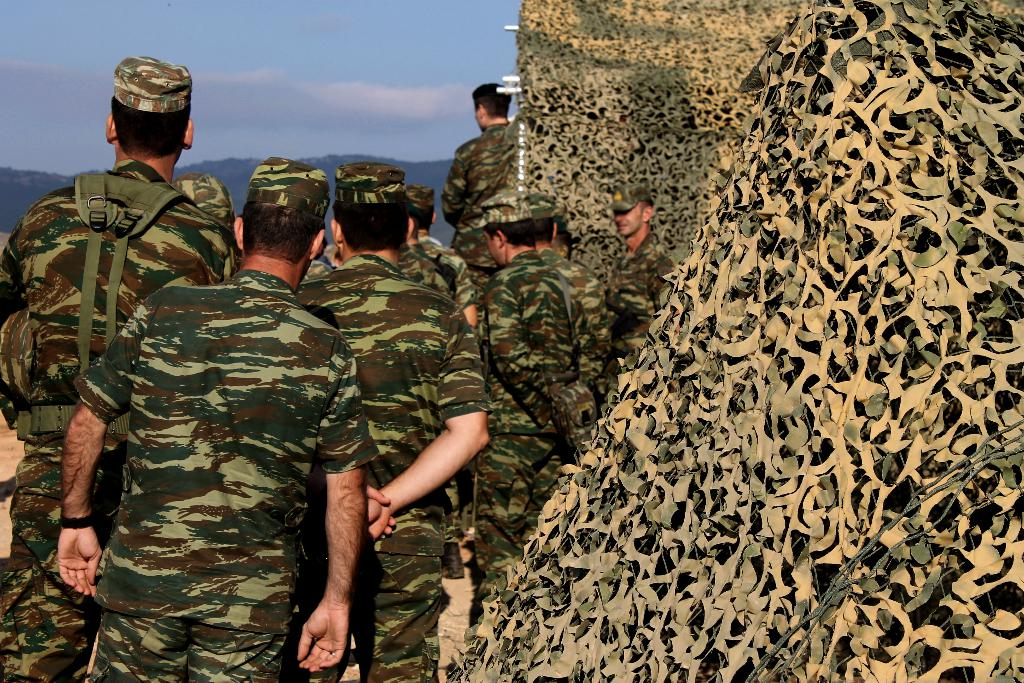person: (599, 182, 679, 371)
